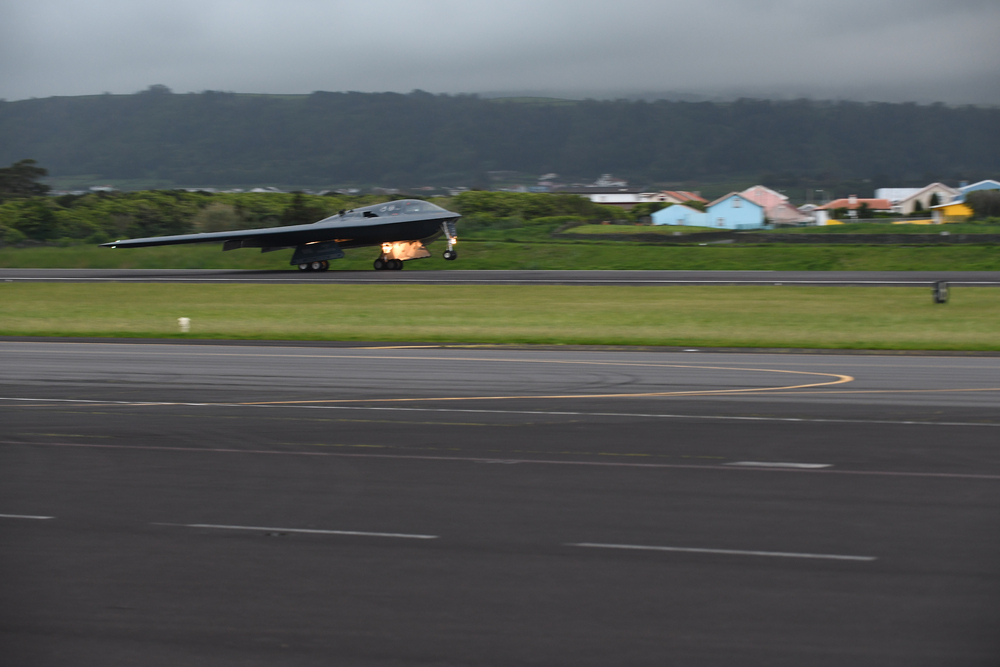B2: (96, 199, 463, 272)
